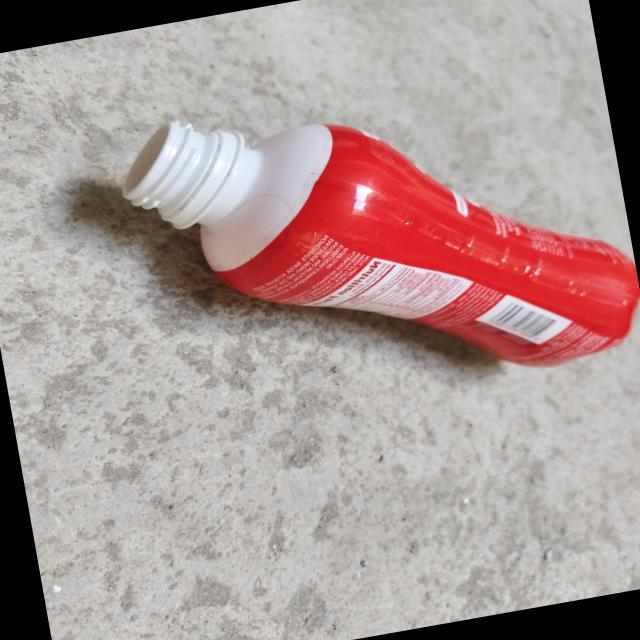Bottle: (123, 120, 640, 365)
